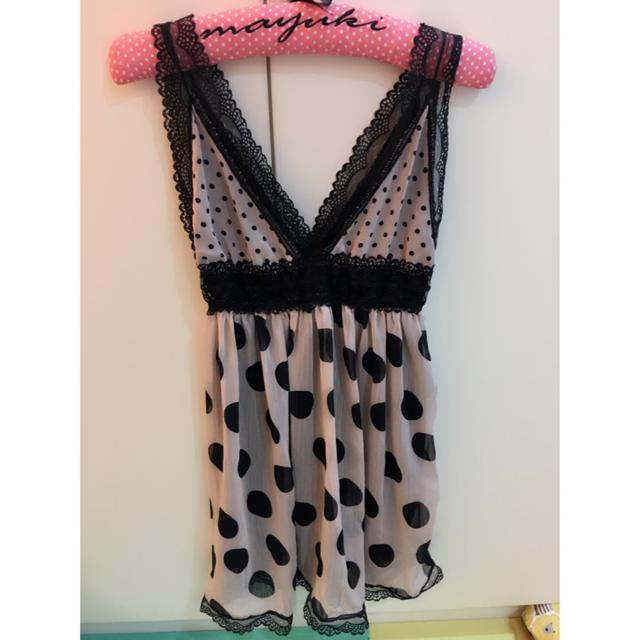Tops: (154, 16, 441, 633)
